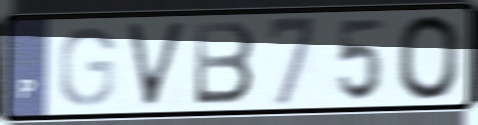5: (333, 14, 389, 104)
7: (265, 13, 321, 110)
B: (192, 19, 258, 108)
G: (55, 24, 118, 109)
O: (394, 11, 464, 104)
V: (121, 18, 191, 112)
